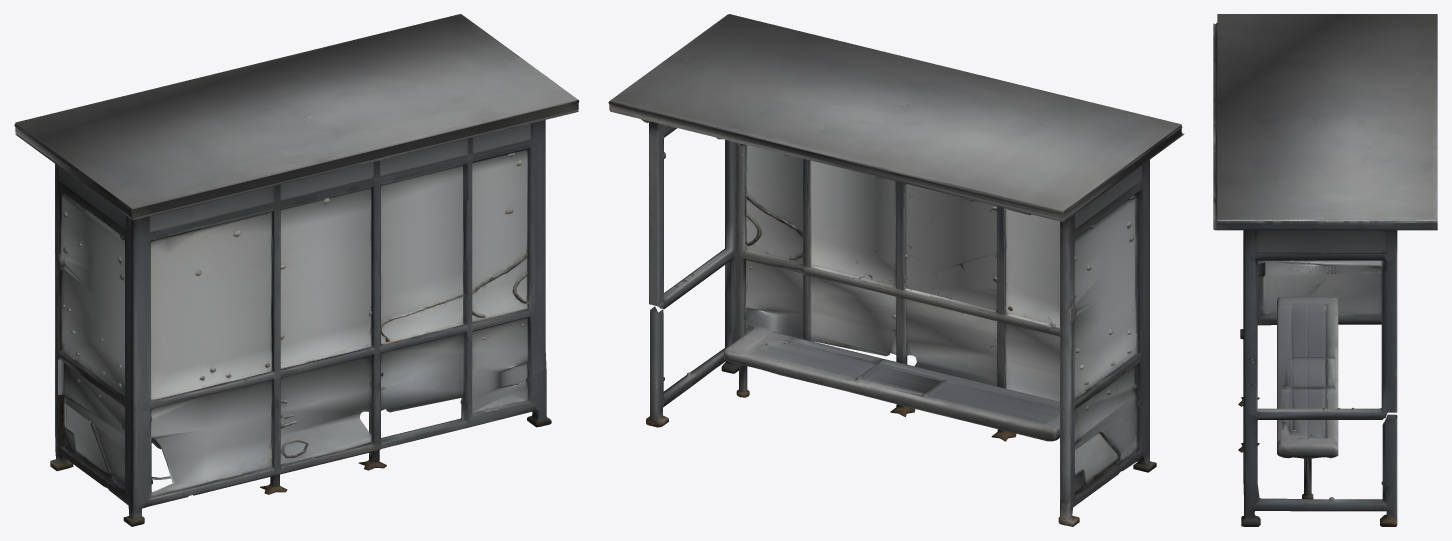
The model's file is bus_stop_01_q3.fbx.
3 views of the same model, side by side, from view 1: azimuth 30°, elevation 25°; view 2: azimuth 150°, elevation 25°; view 3: azimuth 270°, elevation 25° (orthographic). The views are drawn at different scales.
Parts seen in each view (by area): view 1: tripo_node_98d7f36b; view 2: tripo_node_98d7f36b; view 3: tripo_node_98d7f36b.
Boxes of the visible parts, box(x1,y1,x2,y2) form: tripo_node_98d7f36b: box(14, 14, 579, 526); tripo_node_98d7f36b: box(608, 14, 1184, 526); tripo_node_98d7f36b: box(1213, 14, 1437, 526).
Size of the model in its own units: 0.9961 by 0.7065 by 0.456.
1 material, 1 textured.
